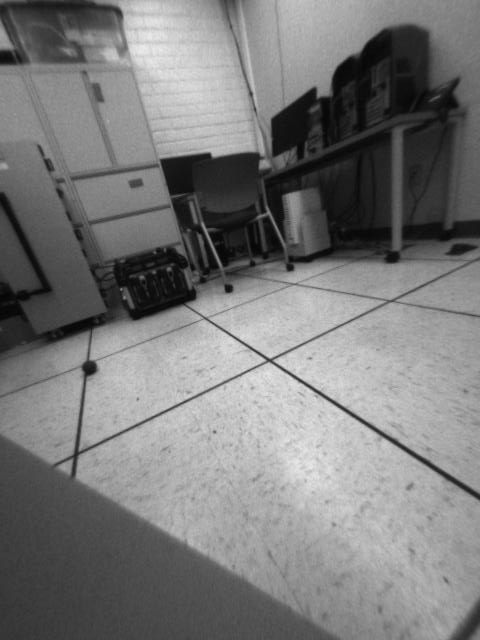dogtoy: (74, 353, 106, 385)
